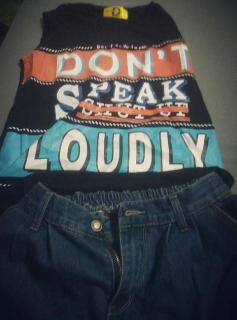shorts: (0, 171, 237, 319)
vest dress: (0, 1, 234, 189)
